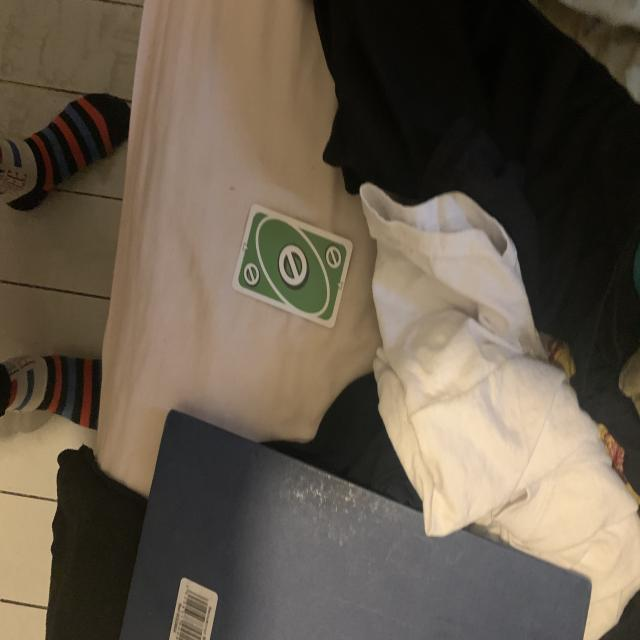lgreenskip-20: (322, 242, 346, 272)
